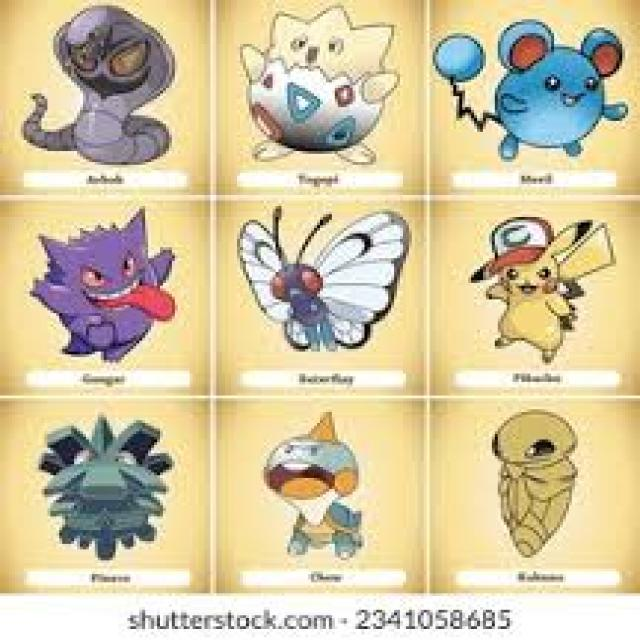Arbok: (50, 2, 177, 166)
Butterfree: (245, 227, 384, 351)
Gengar: (32, 215, 176, 362)
Kakuna: (491, 409, 581, 559)
Pikachu: (491, 246, 573, 362)
